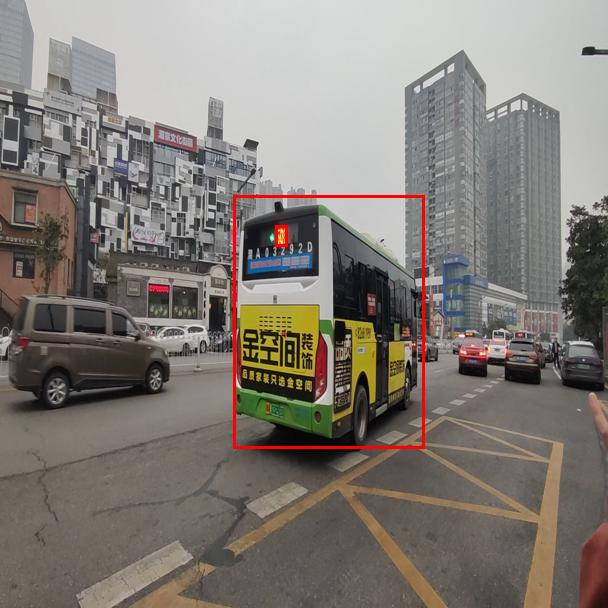bus: (233, 195, 424, 448)
screen: (275, 225, 287, 246)
